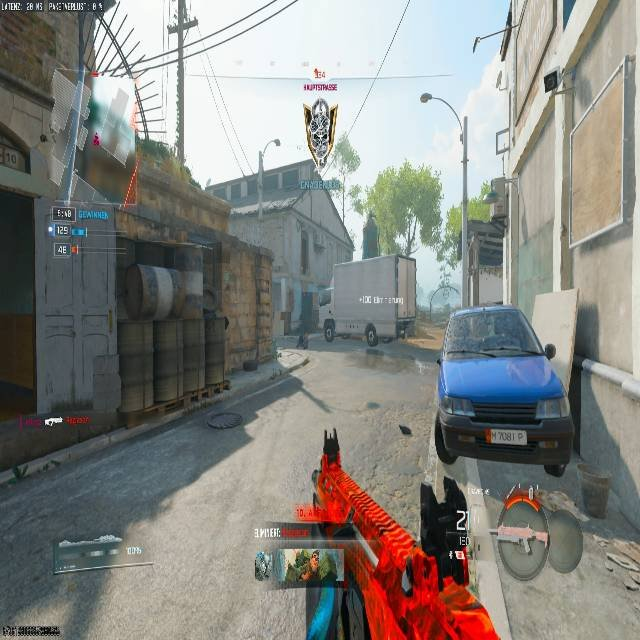player: (363, 320, 379, 357), (321, 306, 336, 343), (365, 321, 376, 344)
